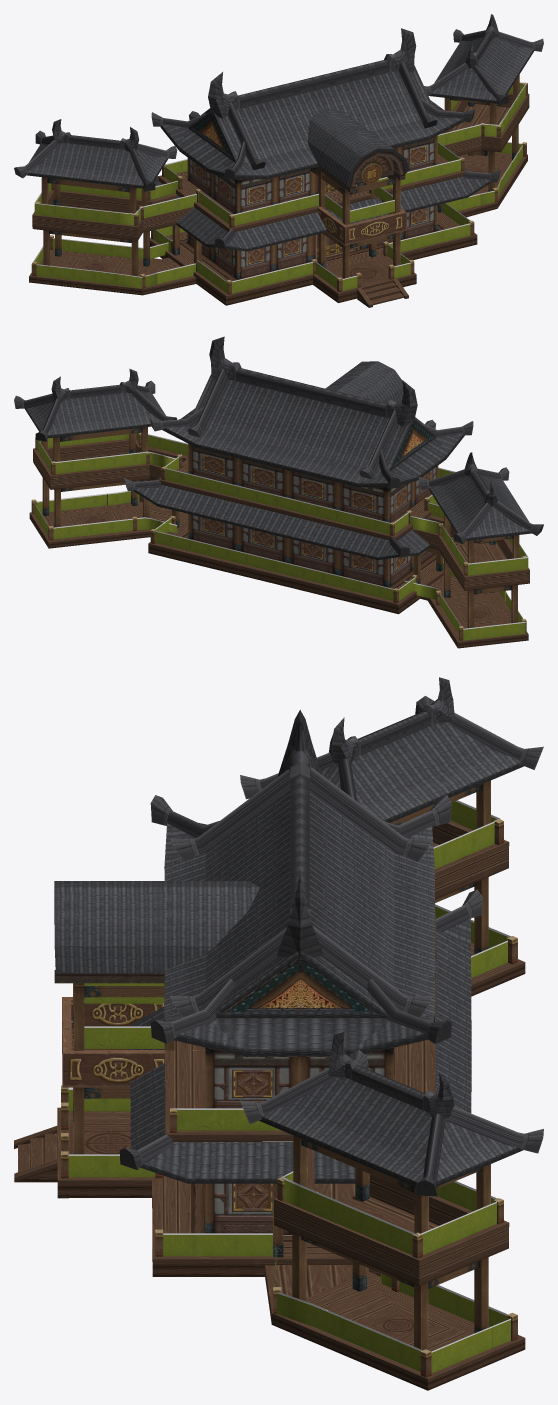
The model's file is City_bujian_25.fbx.
The picture shows the model from 3 angles, top to bottom: view 1: azimuth 30°, elevation 25°; view 2: azimuth 150°, elevation 25°; view 3: azimuth 270°, elevation 25°; orthographic projection. The views are drawn at different scales.
Parts seen in each view (by area): view 1: City_1_2017_3_7_2:City_1_2017_3_7_2:City_1_2017_3_7_2:polySu, polySurface4, City_1_2017_3_7_2:City_1_2017_3_7_2:City_1_2017_3_7_2:City_1; view 2: City_1_2017_3_7_2:City_1_2017_3_7_2:City_1_2017_3_7_2:polySu, polySurface4, City_1_2017_3_7_2:City_1_2017_3_7_2:City_1_2017_3_7_2:City_1; view 3: City_1_2017_3_7_2:City_1_2017_3_7_2:City_1_2017_3_7_2:polySu, polySurface4, City_1_2017_3_7_2:City_1_2017_3_7_2:City_1_2017_3_7_2:City_1.
Boxes of the visible parts, <box> form: City_1_2017_3_7_2:City_1_2017_3_7_2:City_1_2017_3_7_2:polySu: <box>14,14,543,251</box>; polySurface4: <box>29,75,529,307</box>; City_1_2017_3_7_2:City_1_2017_3_7_2:City_1_2017_3_7_2:City_1: <box>31,82,526,293</box>; City_1_2017_3_7_2:City_1_2017_3_7_2:City_1_2017_3_7_2:polySu: <box>14,336,543,559</box>; polySurface4: <box>29,423,529,648</box>; City_1_2017_3_7_2:City_1_2017_3_7_2:City_1_2017_3_7_2:City_1: <box>34,433,528,640</box>; City_1_2017_3_7_2:City_1_2017_3_7_2:City_1_2017_3_7_2:polySu: <box>54,677,543,1196</box>; polySurface4: <box>14,780,525,1390</box>; City_1_2017_3_7_2:City_1_2017_3_7_2:City_1_2017_3_7_2:City_1: <box>68,800,510,1373</box>.
Size of the model in its own units: 34.35 by 12.32 by 15.89.
